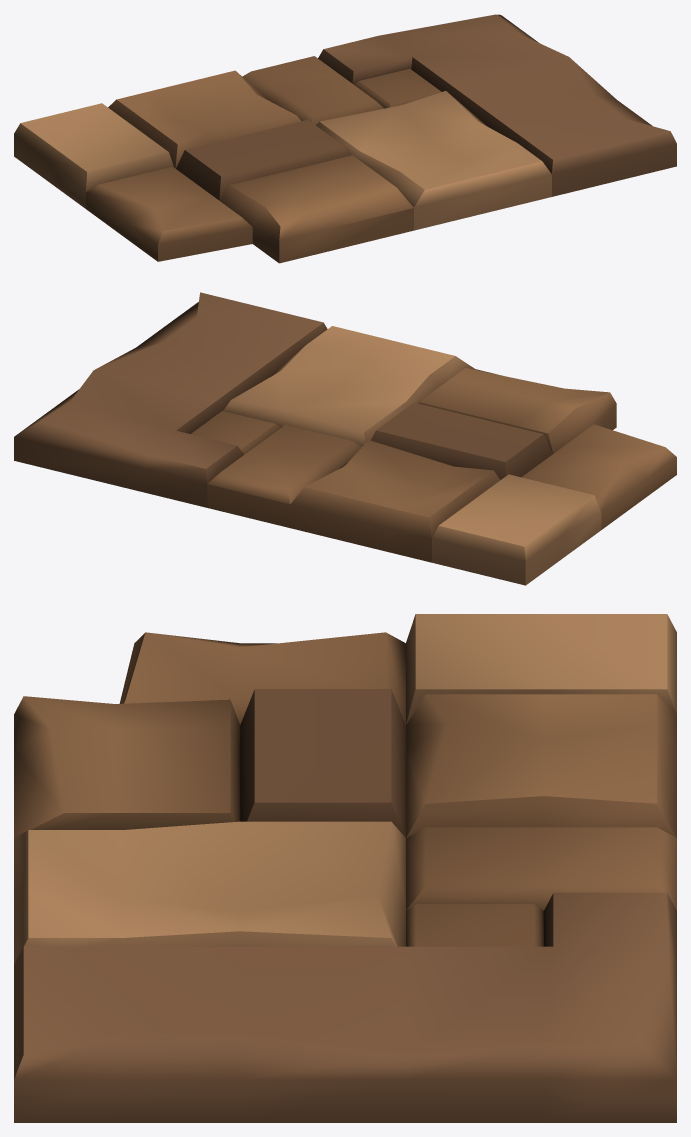
3 renders of one model, top to bottom at view 1: azimuth 30°, elevation 25°; view 2: azimuth 150°, elevation 25°; view 3: azimuth 270°, elevation 25°, orthographic. The views are drawn at different scales.
Parts seen in each view (by area): view 1: base161; view 2: base161; view 3: base161.
Part boxes in pixels (x1,y1,x2,y2): base161: (14,14,676,263); base161: (14,292,676,585); base161: (14,614,676,1122).
Size of the model in its own units: 0.5 by 0.0382 by 0.3129.
